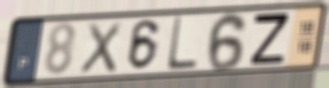6: (206, 9, 250, 72), (124, 19, 163, 73)
8: (42, 21, 78, 79)
L: (165, 15, 199, 73)
X: (77, 20, 124, 76)
Z: (248, 12, 292, 67)
